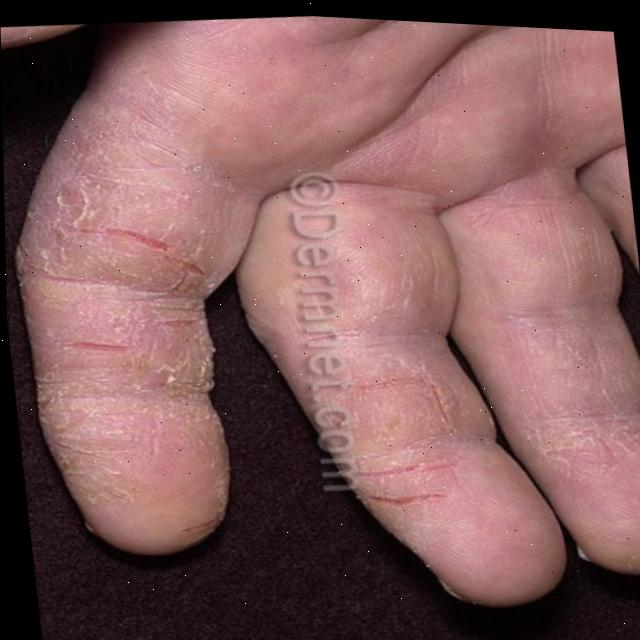Eczema: (77, 202, 220, 377)
